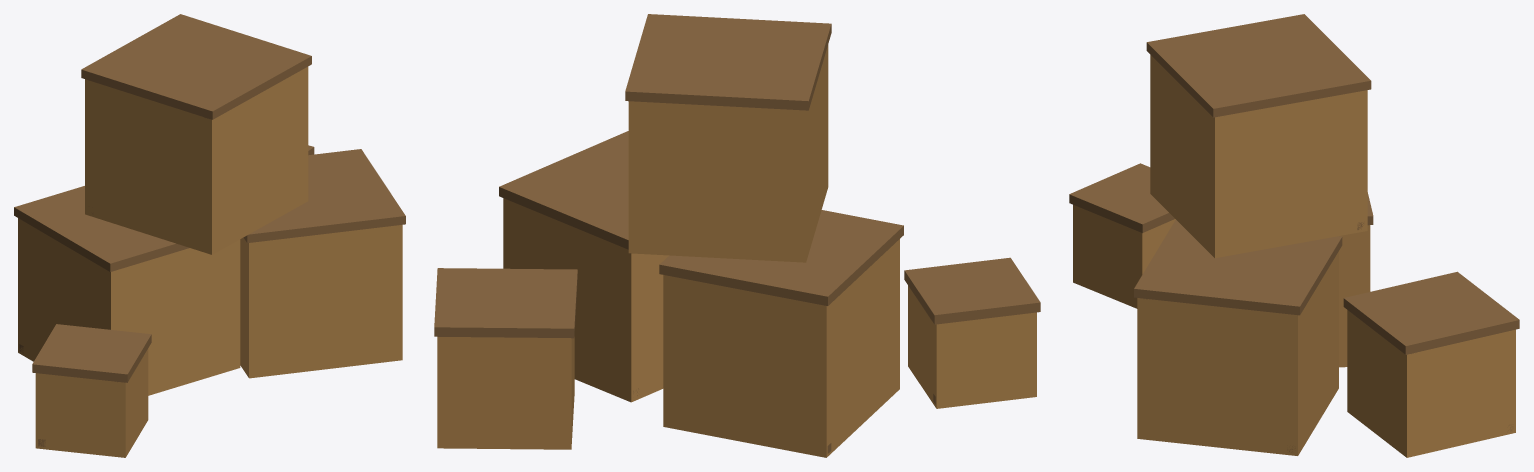
Rendered from crates-stack.glb.
3 renders of one model, left to right at view 1: azimuth 30°, elevation 25°; view 2: azimuth 150°, elevation 25°; view 3: azimuth 270°, elevation 25°, orthographic. The views are drawn at different scales.
Parts seen in each view (by area): view 1: crates-stack; view 2: crates-stack; view 3: crates-stack.
Boxes of the visible parts, bbox=[...] form: crates-stack: bbox=[14, 14, 405, 457]; crates-stack: bbox=[434, 14, 1040, 457]; crates-stack: bbox=[1069, 14, 1519, 457].
Size of the model in its own units: 3.56 by 2.42 by 3.26.
